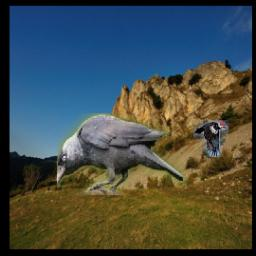Crow: (57, 113, 186, 195)
Woodpecker: (192, 121, 228, 158)
